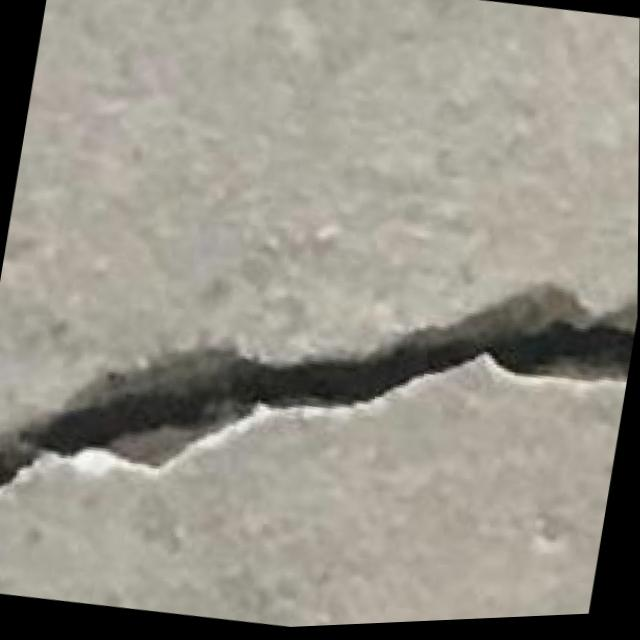Crack: (0, 183, 639, 640)
